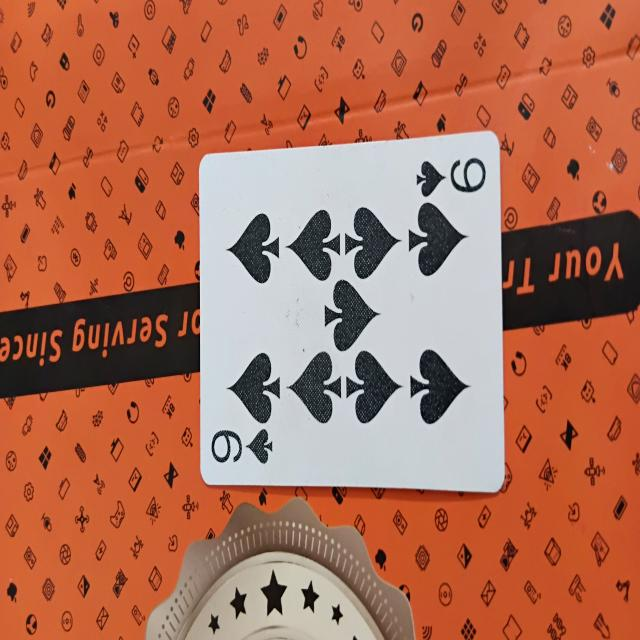9S: (199, 153, 501, 490)
